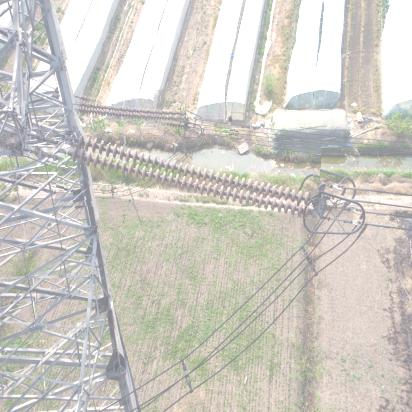insulator: (58, 135, 322, 217), (75, 92, 187, 134)
